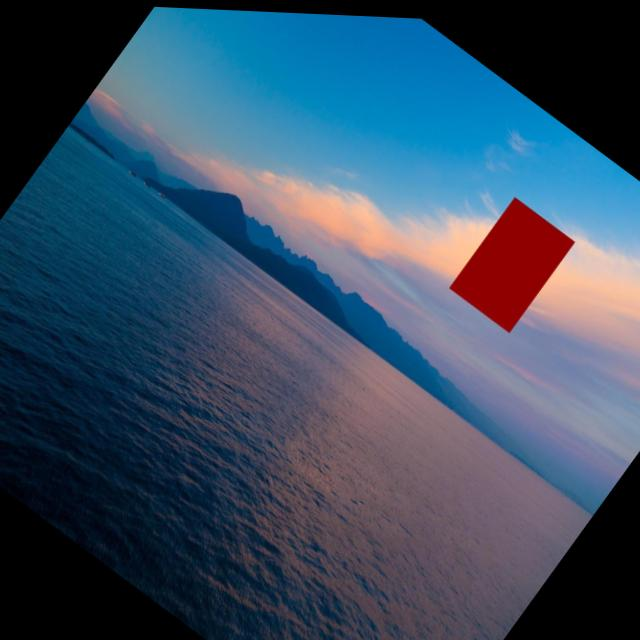RedSquare: (440, 176, 588, 340)
